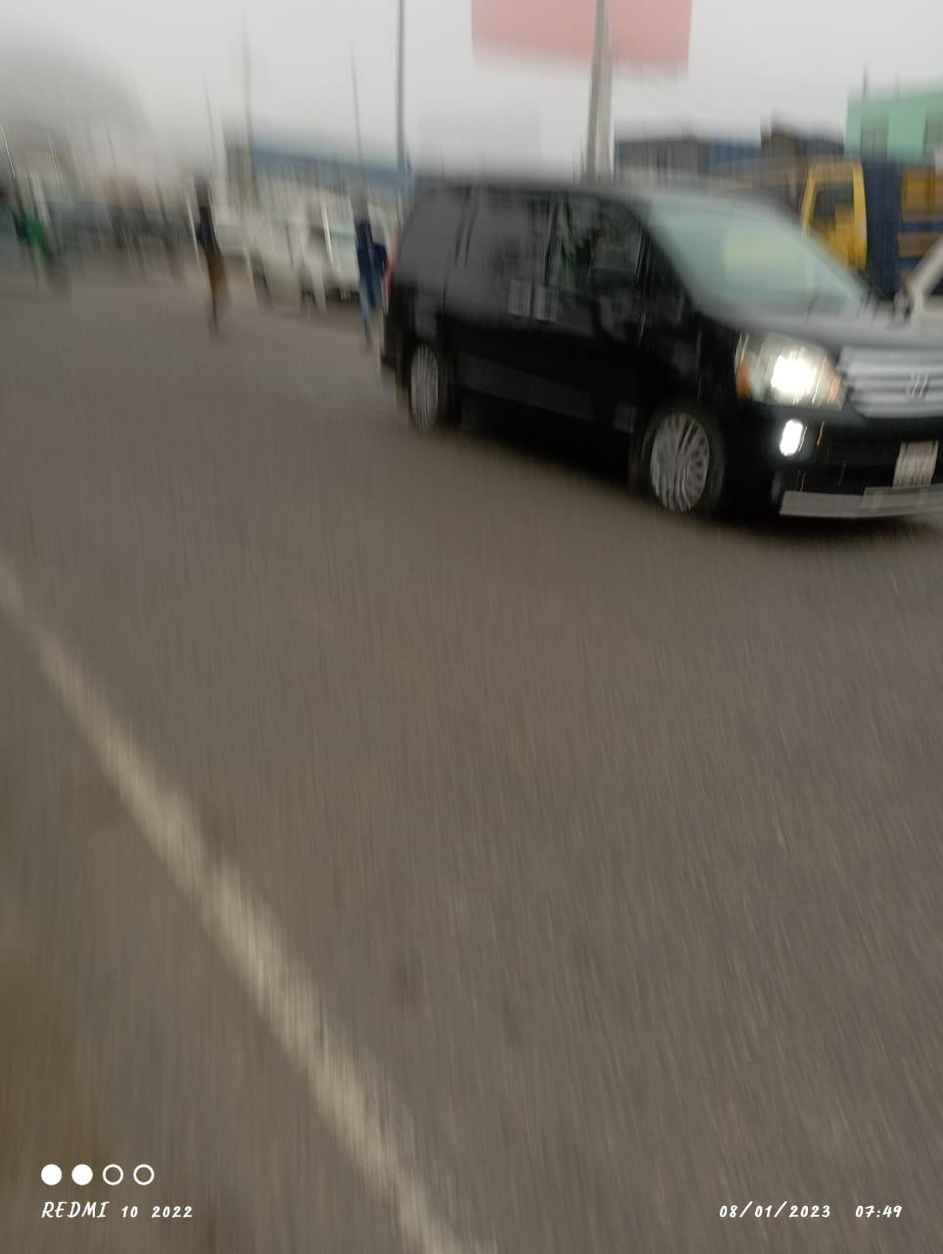Car: (382, 168, 938, 526)
